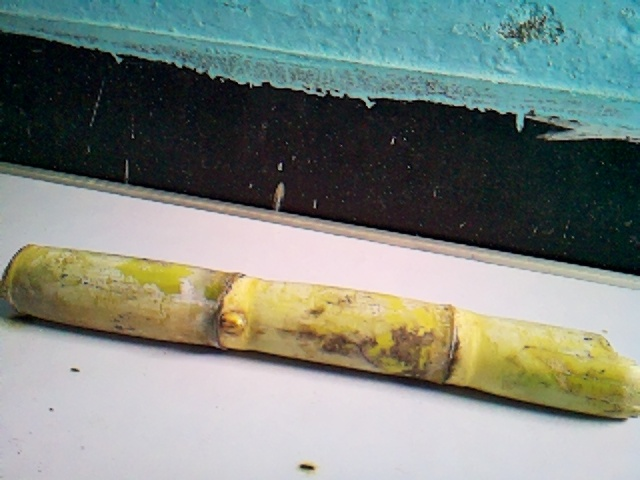Good Sugarcane: (2, 239, 640, 423)
Node: (198, 265, 259, 356), (426, 299, 474, 391)
